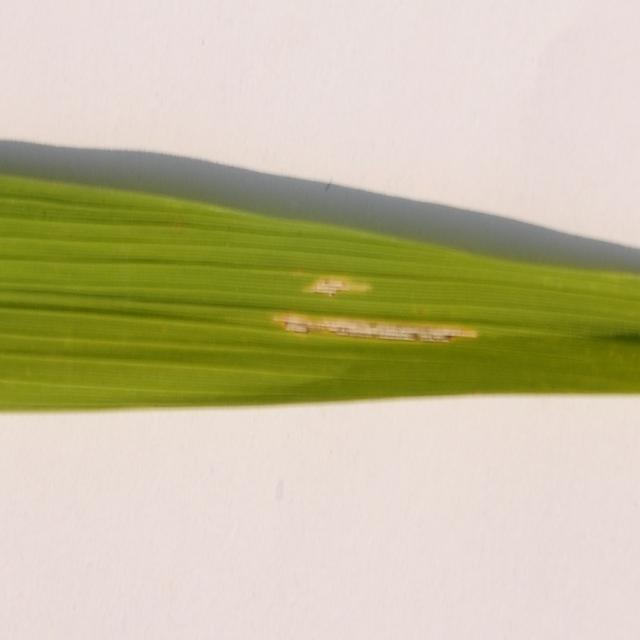leaf blight: (156, 253, 377, 407)
